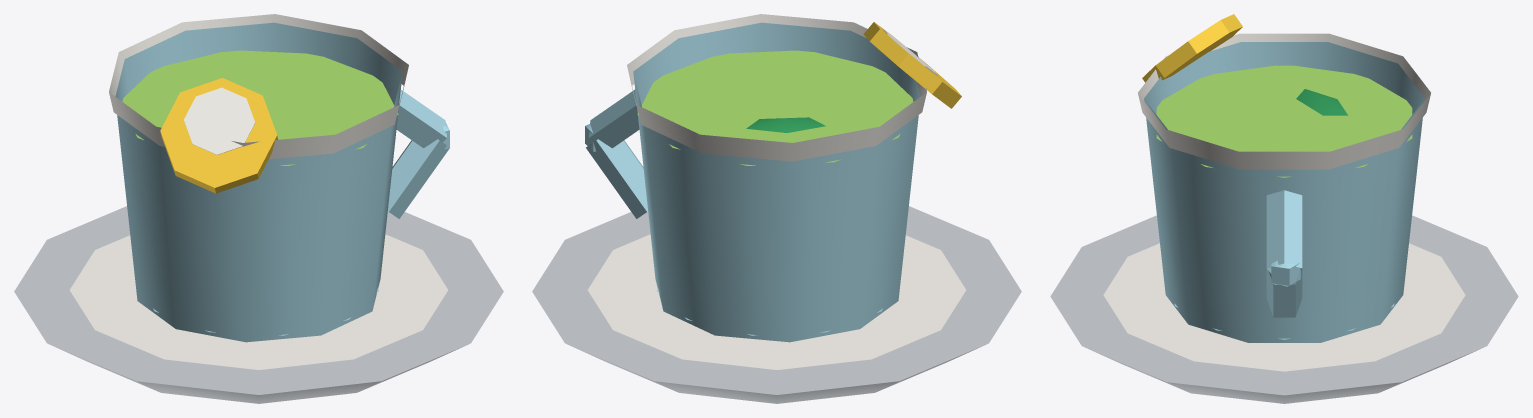
The model's file is pass_green_tea.glb.
The picture shows the model from 3 angles, left to right: view 1: azimuth 30°, elevation 25°; view 2: azimuth 150°, elevation 25°; view 3: azimuth 270°, elevation 25°; orthographic projection. The views are drawn at different scales.
Parts seen in each view (by area): view 1: pass_green_tea; view 2: pass_green_tea; view 3: pass_green_tea.
Boxes of the visible parts, <box> form: pass_green_tea: <box>14,14,503,403</box>; pass_green_tea: <box>532,14,1021,403</box>; pass_green_tea: <box>1050,14,1518,403</box>.
Bounding box in the file's own units: 0.15 × 0.0962 × 0.15.
Materials: 1 (1 with a texture image).
